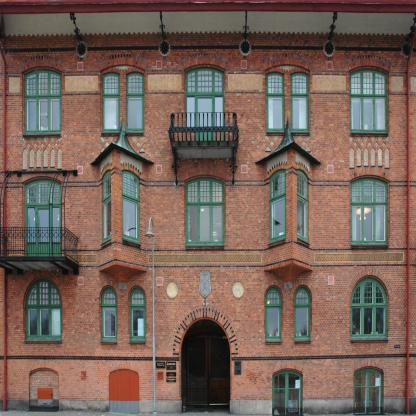Balcony: (0, 227, 79, 270), (168, 112, 239, 159)
Building Outline: (0, 0, 416, 415)
Cornice: (170, 303, 241, 355), (345, 268, 395, 304), (18, 269, 67, 305), (262, 52, 313, 71), (98, 53, 148, 70), (181, 52, 228, 70), (346, 54, 392, 72), (19, 55, 65, 72), (182, 166, 228, 181), (347, 166, 392, 181), (20, 167, 64, 182), (290, 279, 316, 299), (124, 280, 150, 300), (260, 280, 287, 299), (106, 360, 142, 374), (270, 360, 306, 374), (96, 280, 121, 300), (26, 359, 61, 373), (351, 358, 387, 371)
Deco: (198, 271, 211, 299)
Door: (181, 320, 230, 414), (272, 370, 303, 415), (354, 368, 384, 414), (109, 371, 140, 414), (29, 370, 59, 410), (196, 95, 215, 149), (36, 205, 51, 258)
Facade: (0, 31, 416, 415)
Floor: (0, 158, 416, 262)
Floor Slab: (0, 153, 416, 158), (0, 258, 416, 263)
Ground Floor: (0, 262, 416, 414)
Molding: (148, 253, 262, 263), (314, 253, 404, 262), (10, 255, 96, 263)
Sill: (266, 131, 310, 136), (350, 132, 389, 137), (25, 339, 62, 344), (122, 238, 142, 247), (101, 132, 144, 136), (267, 238, 286, 247), (185, 246, 225, 250), (22, 134, 61, 138), (350, 339, 389, 343), (297, 237, 311, 248), (351, 244, 389, 248), (100, 239, 111, 247), (101, 340, 118, 344), (294, 340, 311, 344), (265, 340, 282, 344), (129, 341, 146, 345)
Top Floor: (0, 31, 416, 158)
Window: (186, 177, 224, 246), (350, 177, 388, 244), (24, 69, 61, 133), (350, 277, 388, 339), (350, 68, 387, 131), (25, 278, 62, 339), (122, 169, 140, 243), (269, 169, 286, 243), (186, 66, 224, 95), (266, 71, 284, 131), (291, 72, 309, 131), (126, 71, 144, 130), (102, 72, 120, 131), (25, 178, 61, 205), (294, 287, 311, 340), (297, 168, 309, 243), (265, 287, 281, 340), (101, 288, 117, 340), (130, 288, 146, 340), (101, 169, 111, 243), (25, 205, 36, 244), (51, 205, 61, 244), (214, 95, 224, 129), (186, 95, 196, 129)
